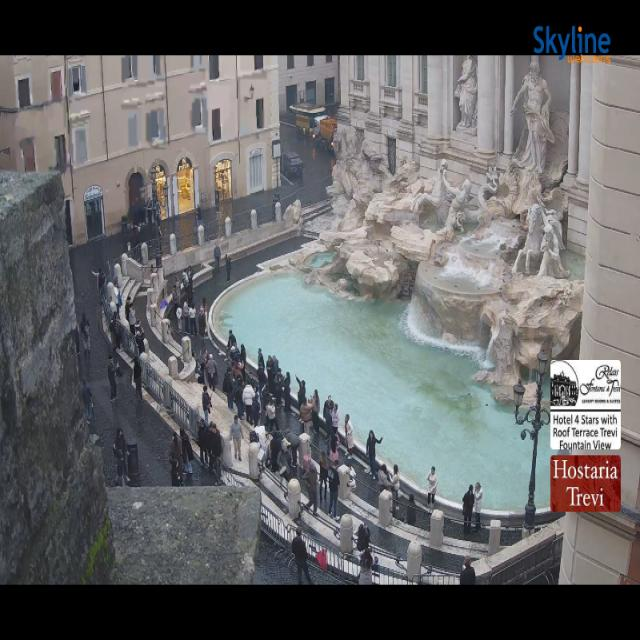person: (292, 528, 314, 584), (113, 429, 128, 481), (210, 423, 223, 483), (366, 431, 382, 479), (303, 464, 317, 514), (328, 460, 339, 521), (180, 429, 194, 475), (462, 485, 474, 534), (277, 439, 290, 481), (230, 416, 242, 461), (243, 384, 255, 424), (107, 354, 117, 402), (198, 419, 208, 467), (170, 433, 182, 472), (82, 379, 92, 425), (287, 431, 299, 469), (359, 549, 372, 584), (474, 483, 483, 531), (300, 399, 312, 434), (223, 368, 233, 410), (80, 312, 90, 354), (109, 311, 120, 349), (133, 358, 143, 399), (266, 397, 278, 431), (460, 557, 475, 584), (345, 415, 354, 459), (320, 452, 328, 501), (428, 466, 437, 508), (391, 465, 399, 512), (234, 378, 243, 419), (357, 523, 370, 551), (323, 396, 332, 436), (266, 356, 275, 395), (207, 355, 217, 390), (271, 437, 281, 472), (202, 385, 211, 423), (116, 450, 125, 487), (296, 376, 306, 409), (378, 464, 391, 489), (406, 494, 416, 526), (199, 298, 207, 337), (172, 278, 180, 316), (92, 268, 105, 291), (312, 390, 319, 432), (252, 391, 260, 427), (329, 435, 339, 463), (136, 323, 145, 354), (283, 372, 290, 411), (114, 279, 122, 313), (188, 303, 196, 336), (276, 369, 283, 405), (172, 459, 181, 487), (257, 366, 267, 389), (332, 404, 339, 436), (182, 300, 189, 332), (240, 344, 246, 381), (128, 306, 135, 335), (214, 243, 221, 272), (227, 330, 236, 352), (225, 255, 231, 282), (176, 305, 182, 330), (125, 297, 131, 321), (196, 208, 202, 231), (272, 354, 279, 372), (258, 349, 264, 369)
